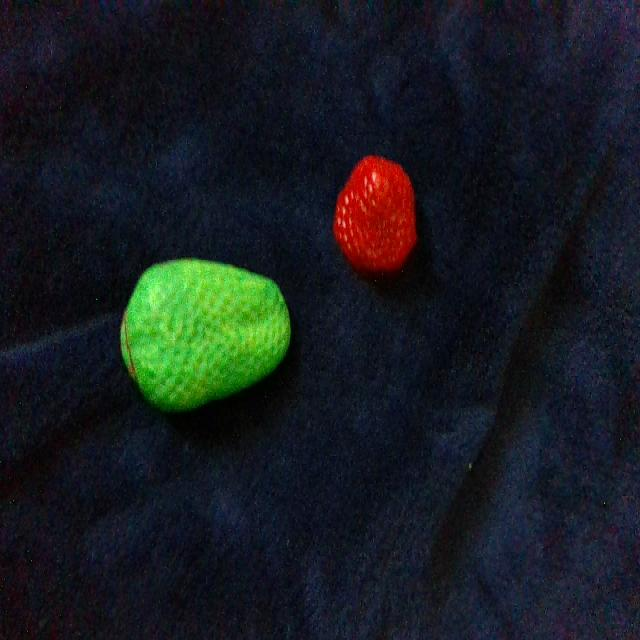chica_roja: (334, 156, 416, 273)
verde: (121, 259, 290, 411)
